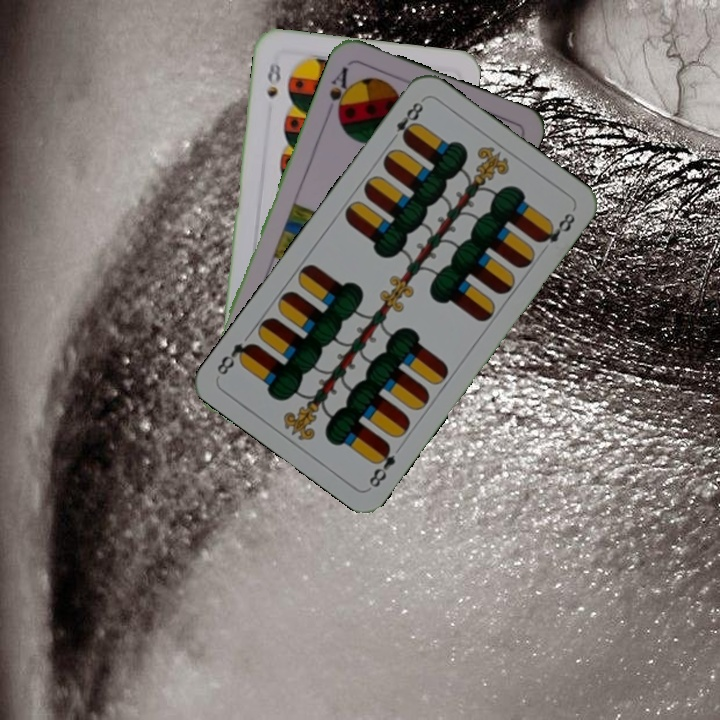E8: (385, 95, 428, 146), (364, 440, 398, 491)
S8: (262, 58, 284, 100)
SA: (325, 63, 354, 122)
